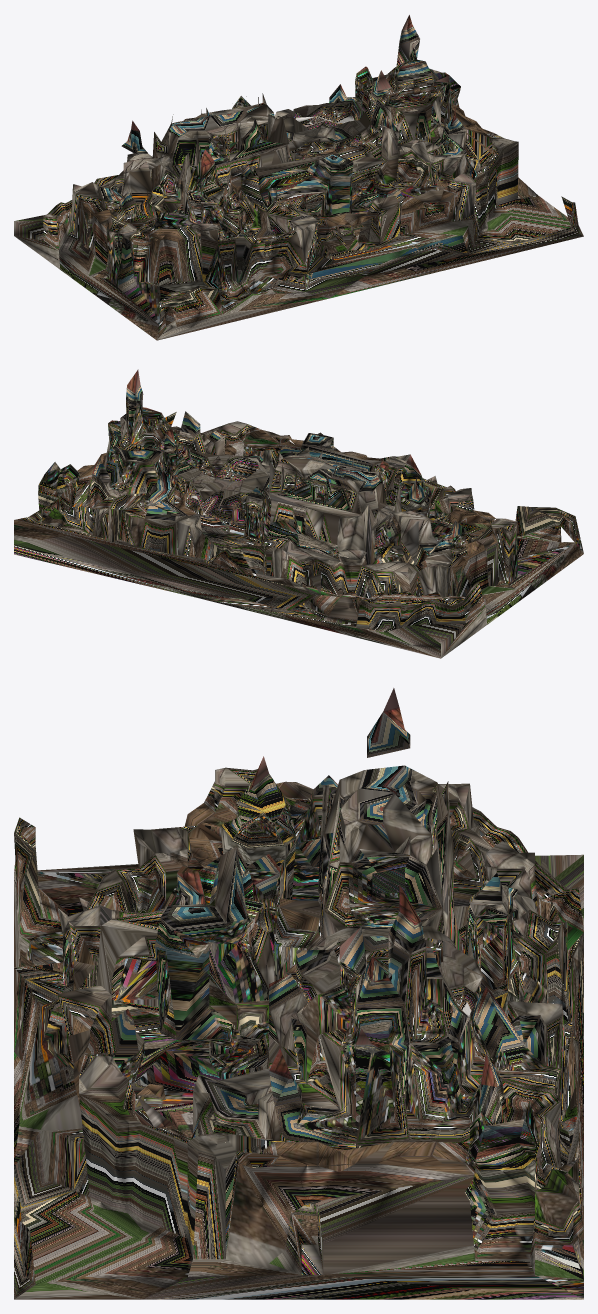
The model's file is landmark_citadel.glb.
3 views of the same model, one above another, from view 1: azimuth 30°, elevation 25°; view 2: azimuth 150°, elevation 25°; view 3: azimuth 270°, elevation 25° (orthographic). The views are drawn at different scales.
Visible parts, largest first — view 1: landmark_citadel; view 2: landmark_citadel; view 3: landmark_citadel.
Boxes of the visible parts, x1=… form: landmark_citadel: x1=14, y1=15, x2=583, y2=340; landmark_citadel: x1=14, y1=369, x2=583, y2=658; landmark_citadel: x1=14, y1=688, x2=583, y2=1299.
Bounding box in the file's own units: 18.4 × 7.01 × 10.67.
1 material, 1 textured.
